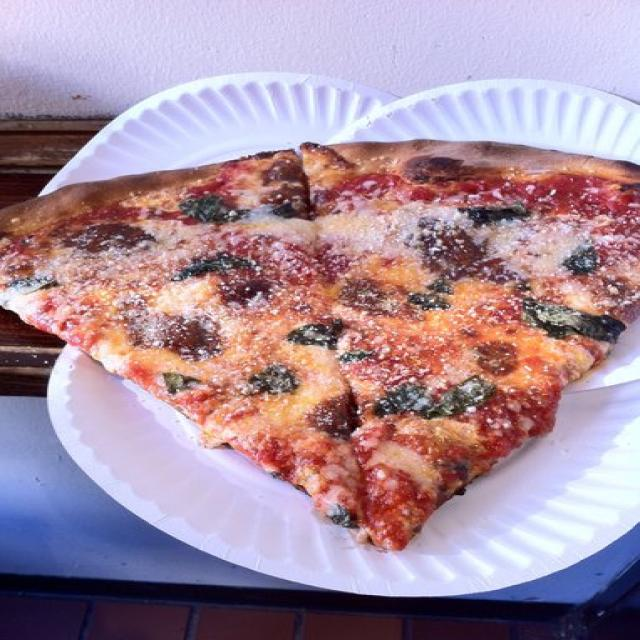Basil: (379, 377, 486, 416), (524, 298, 619, 341), (183, 193, 236, 224), (187, 194, 239, 224), (464, 202, 538, 222), (292, 314, 336, 347), (174, 254, 242, 274), (250, 364, 290, 391), (413, 278, 442, 310), (565, 245, 594, 270), (167, 371, 193, 396), (327, 503, 353, 527), (6, 281, 62, 292)
Pizza: (0, 140, 640, 554)
